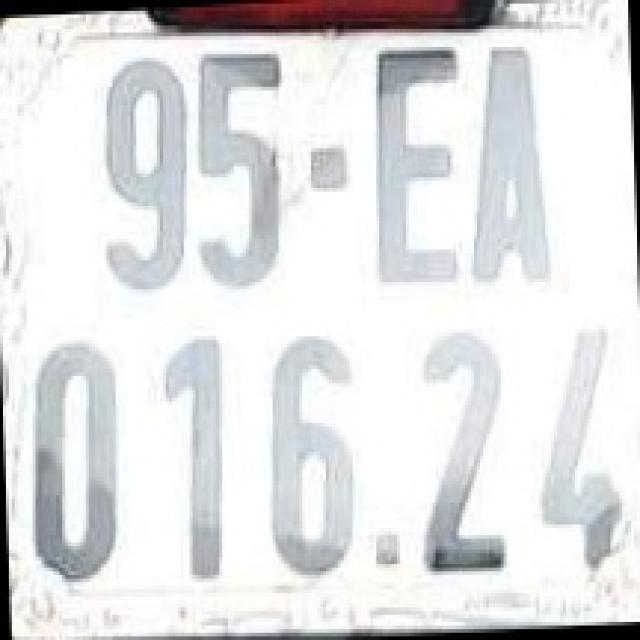0: (27, 332, 128, 586)
1: (154, 326, 240, 590)
2: (408, 318, 516, 579)
4: (533, 318, 631, 575)
5: (190, 43, 290, 293)
6: (260, 326, 364, 578)
9: (92, 50, 190, 294)
A: (468, 36, 560, 293)
E: (370, 40, 462, 293)
